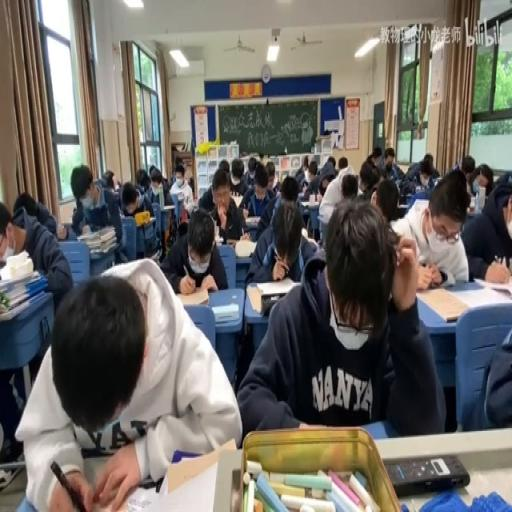calculator: (414, 286, 469, 321), (124, 482, 158, 512), (473, 276, 511, 299), (254, 274, 298, 293), (174, 286, 210, 306), (212, 300, 238, 322), (244, 284, 262, 312), (234, 238, 256, 258), (435, 268, 455, 288), (89, 244, 117, 258), (475, 183, 485, 212), (135, 215, 157, 226), (402, 192, 418, 206), (230, 192, 242, 209), (244, 214, 261, 224), (466, 206, 480, 218), (299, 184, 310, 199), (397, 202, 409, 215), (148, 248, 160, 260), (224, 238, 237, 248), (430, 176, 442, 186), (301, 226, 308, 239), (175, 189, 184, 199), (162, 204, 175, 210), (214, 235, 223, 243)
paper: (20, 259, 241, 512), (235, 199, 437, 440), (3, 193, 73, 323), (390, 168, 468, 284), (461, 308, 510, 432), (158, 206, 226, 294), (460, 171, 512, 280), (69, 162, 123, 253), (118, 181, 152, 256), (242, 164, 276, 230), (302, 165, 328, 236), (197, 162, 232, 213), (400, 151, 438, 193), (168, 164, 194, 218), (371, 178, 401, 223), (145, 164, 173, 206), (378, 145, 404, 181), (226, 157, 248, 199), (360, 145, 382, 181), (11, 192, 39, 220), (457, 155, 477, 193), (292, 155, 310, 189), (278, 175, 298, 202), (340, 172, 358, 202), (478, 165, 493, 192), (100, 168, 118, 189), (134, 168, 149, 192), (246, 158, 257, 180), (55, 222, 67, 239), (265, 159, 274, 181), (218, 160, 230, 176), (318, 179, 329, 196), (174, 155, 184, 172), (325, 154, 335, 170), (186, 176, 194, 196), (307, 164, 317, 179), (260, 151, 270, 165), (338, 155, 347, 169), (370, 191, 377, 206), (274, 183, 280, 195)
person: (384, 454, 470, 496), (259, 292, 285, 314)
